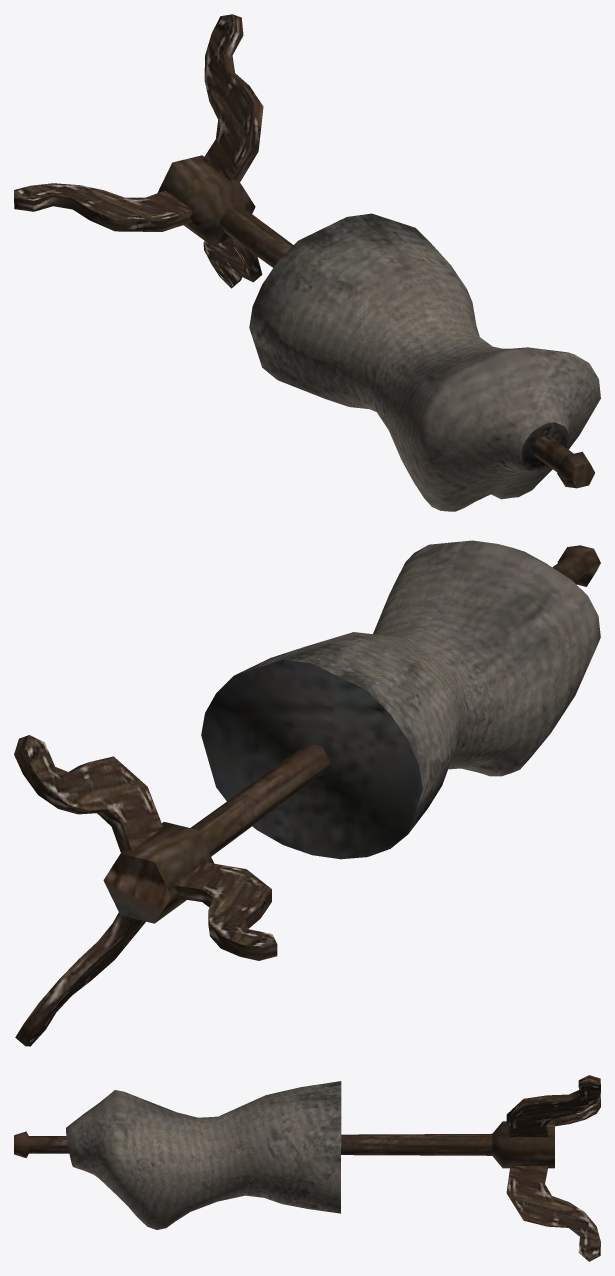
File: mannequin_dressform.glb
The picture shows the model from 3 angles, top to bottom: view 1: azimuth 30°, elevation 25°; view 2: azimuth 150°, elevation 25°; view 3: azimuth 270°, elevation 25°; orthographic projection. The views are drawn at different scales.
Size of the model in its own units: 24.94 by 26.29 by 74.66.
1 material, 1 textured.
